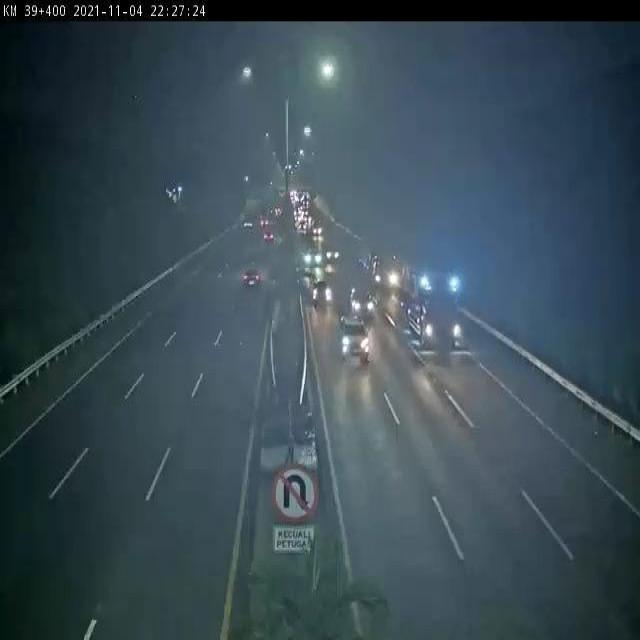car: (338, 312, 369, 363), (349, 285, 376, 319), (310, 277, 331, 303), (242, 267, 263, 289)
mid truck: (303, 246, 322, 266)
truck-l-: (401, 265, 463, 352)
truck-xl-: (360, 251, 403, 296)
